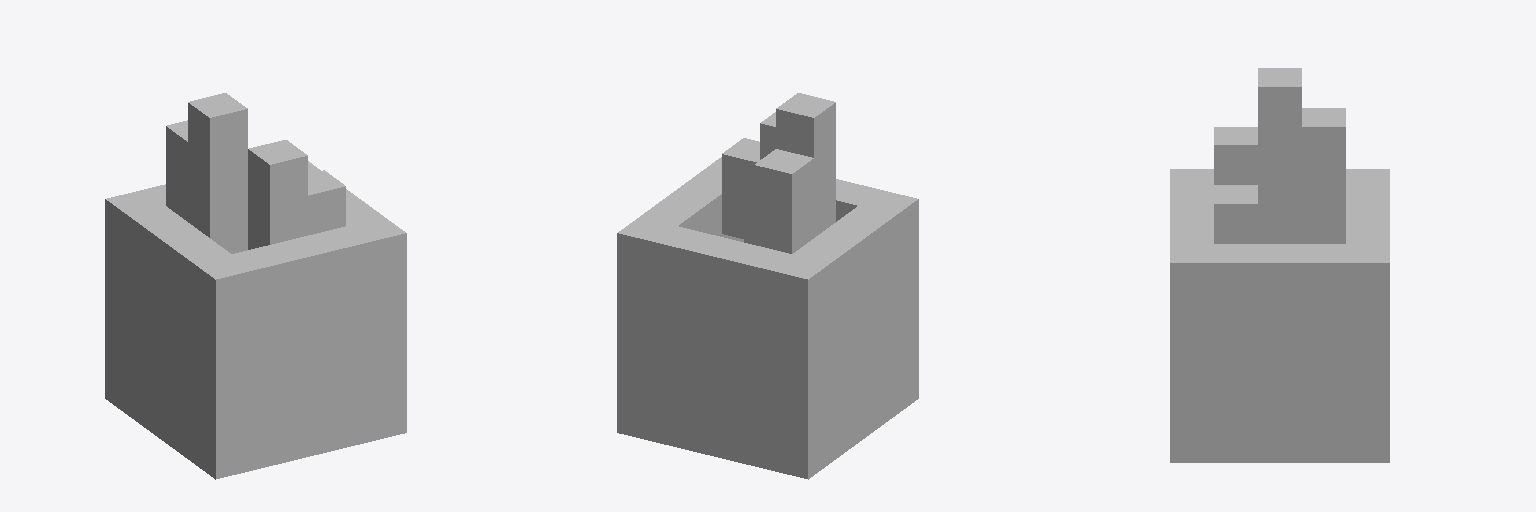
Rendered from 3D Voxel Office Pack-25.obj.
3 views of the same model, side by side, from view 1: azimuth 30°, elevation 25°; view 2: azimuth 150°, elevation 25°; view 3: azimuth 270°, elevation 25° (orthographic).
Parts seen in each view (by area): view 1: object 1; view 2: object 1; view 3: object 1.
Boxes of the visible parts, x1=… form: object 1: x1=105, y1=93, x2=406, y2=479; object 1: x1=617, y1=93, x2=918, y2=479; object 1: x1=1170, y1=68, x2=1389, y2=462.
Bounding box in the file's own units: 0.5 × 0.8 × 0.5.